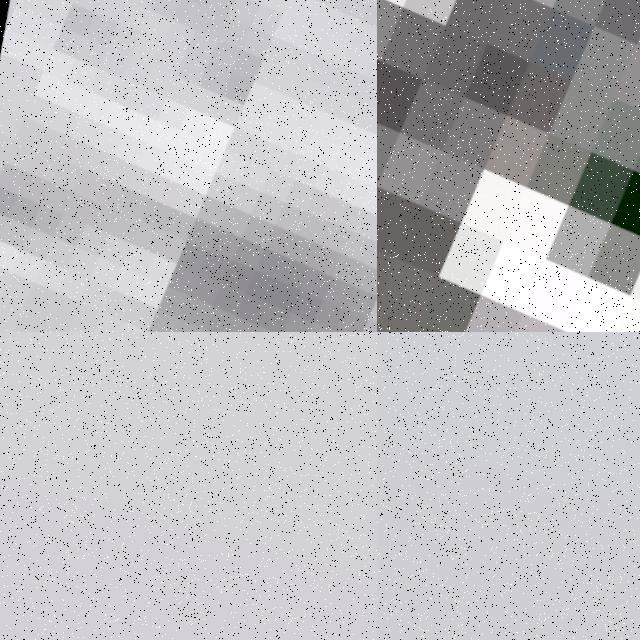0: (0, 0, 377, 332)
drone: (377, 0, 640, 332)
